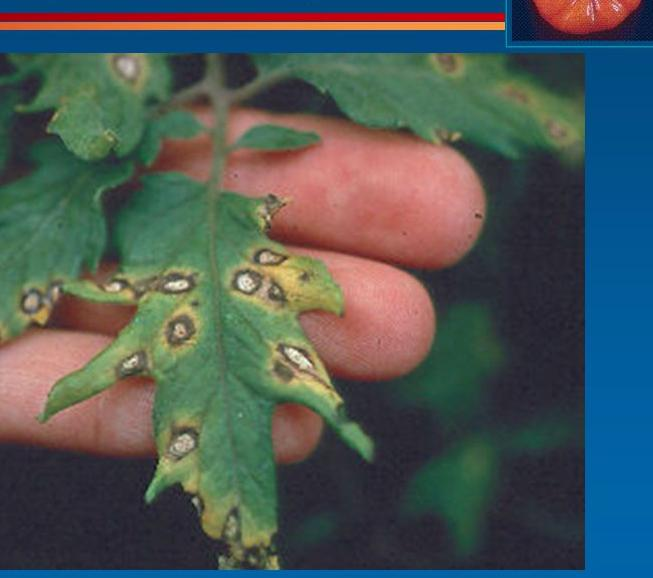Tomato Septoria leaf spot: (65, 183, 381, 565), (219, 57, 578, 176), (0, 132, 115, 426)
